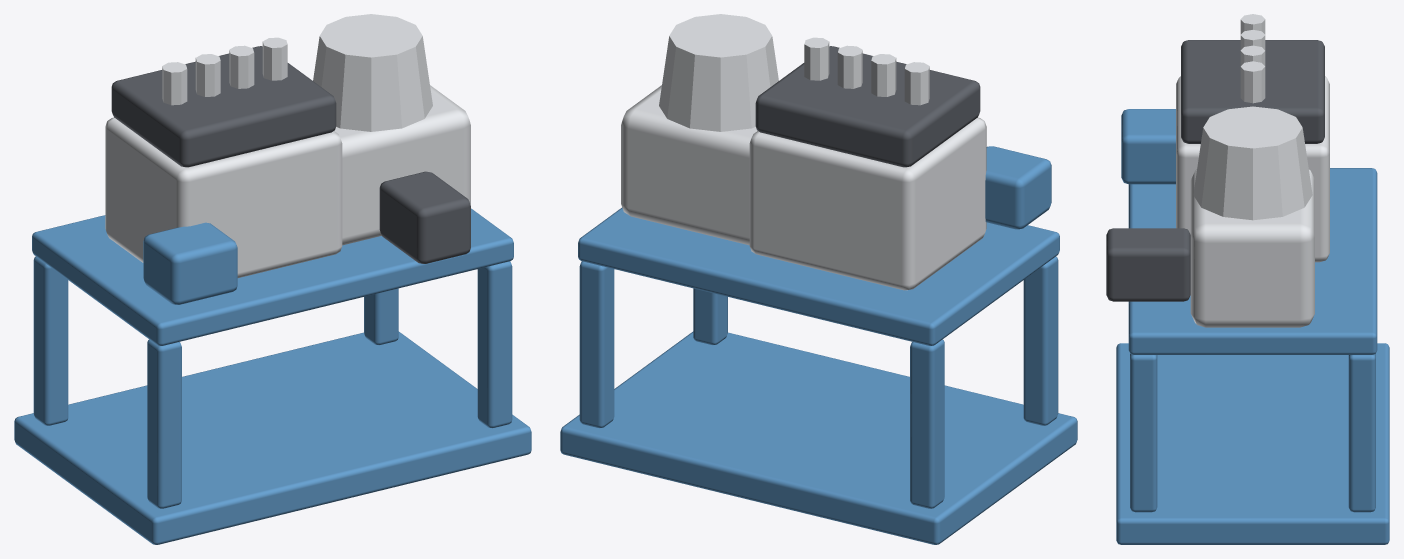
The model's file is engine-and-transmission-stand.glb.
The picture shows the model from 3 angles, left to right: view 1: azimuth 30°, elevation 25°; view 2: azimuth 150°, elevation 25°; view 3: azimuth 270°, elevation 25°; orthographic projection. The views are drawn at different scales.
Visible parts, largest first — view 1: engine-and-transmission-stand; view 2: engine-and-transmission-stand; view 3: engine-and-transmission-stand.
Boxes of the visible parts, x1,y1,x2,y2 form: engine-and-transmission-stand: (14, 14, 531, 544); engine-and-transmission-stand: (560, 14, 1077, 544); engine-and-transmission-stand: (1106, 14, 1389, 544).
Bounding box in the file's own units: 1.7 × 1.74 × 1.14.
